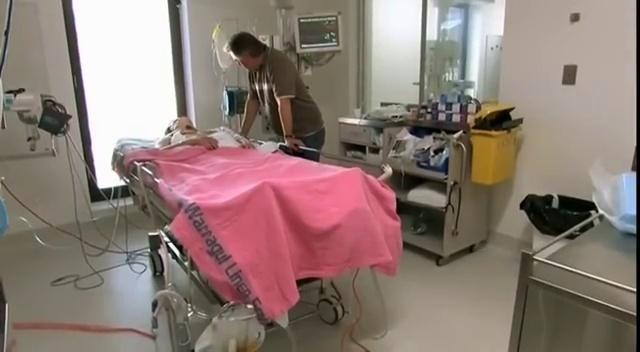others: (224, 30, 326, 161)
patient: (157, 114, 258, 153)
